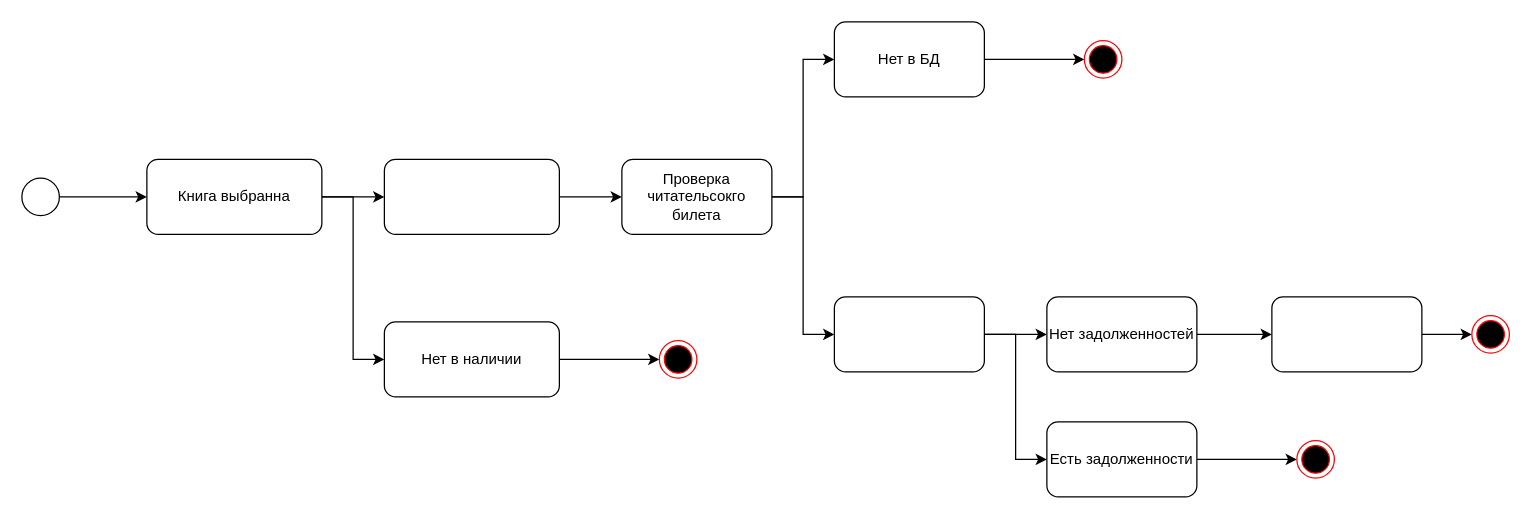
This 1531x519 diagram has some shape labels left out. Each missing label, with the centre of its shape:
В наличии: the point at 471,196
Выдана: the point at 1346,334
Есть в БД: the point at 908,334
